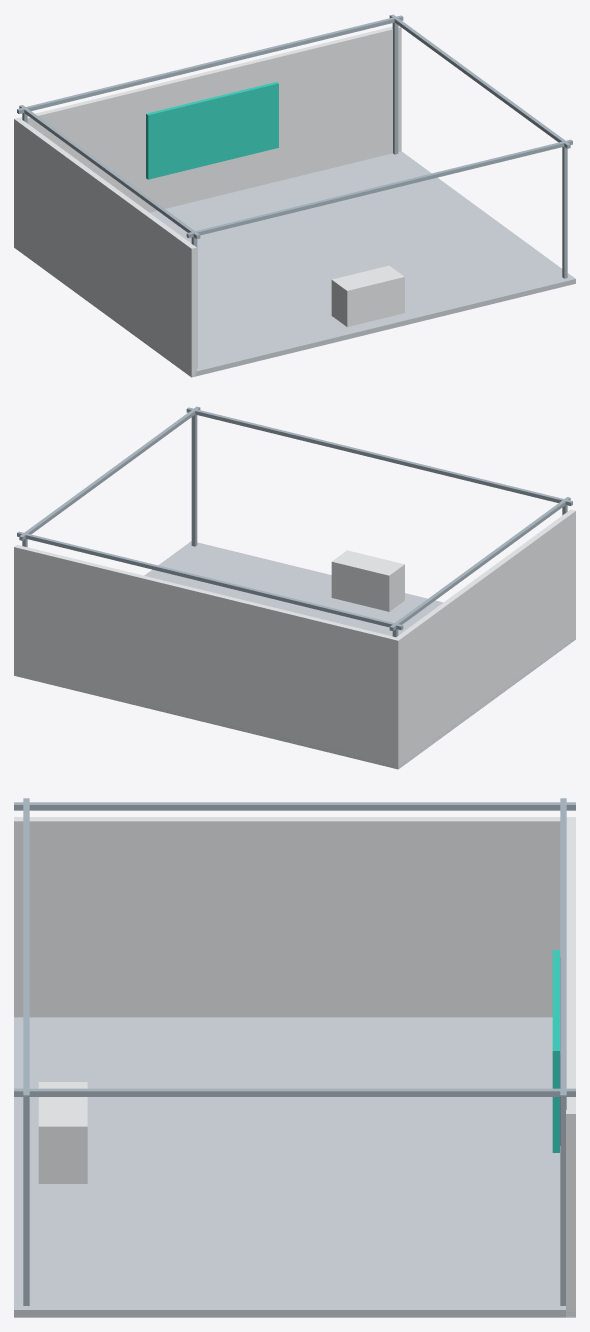
The picture shows the model from 3 angles, top to bottom: view 1: azimuth 30°, elevation 25°; view 2: azimuth 150°, elevation 25°; view 3: azimuth 270°, elevation 25°; orthographic projection. The views are drawn at different scales.
Parts seen in each view (by area): view 1: Exhibition Booth Concept; view 2: Exhibition Booth Concept; view 3: Exhibition Booth Concept.
Boxes of the visible parts, x1,y1,x2,y2 form: Exhibition Booth Concept: (14, 14, 575, 377); Exhibition Booth Concept: (14, 406, 575, 769); Exhibition Booth Concept: (14, 798, 575, 1317).
Size of the model in its own units: 10 by 3.49 by 8.
